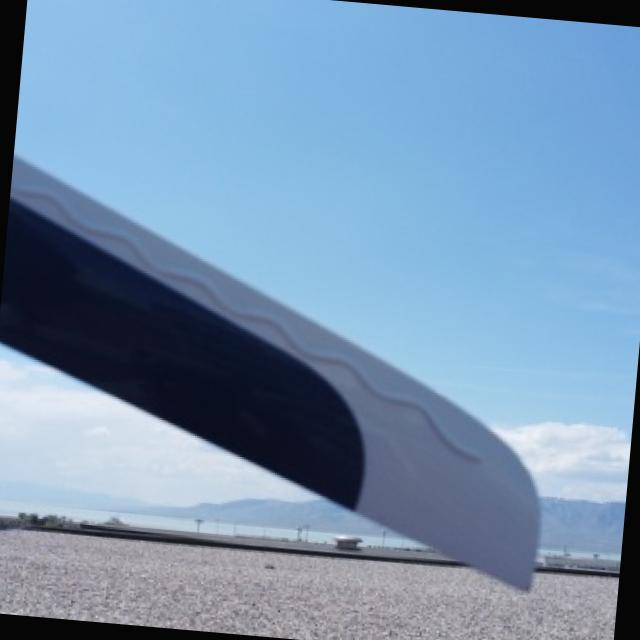healthy: (1, 156, 538, 586)
